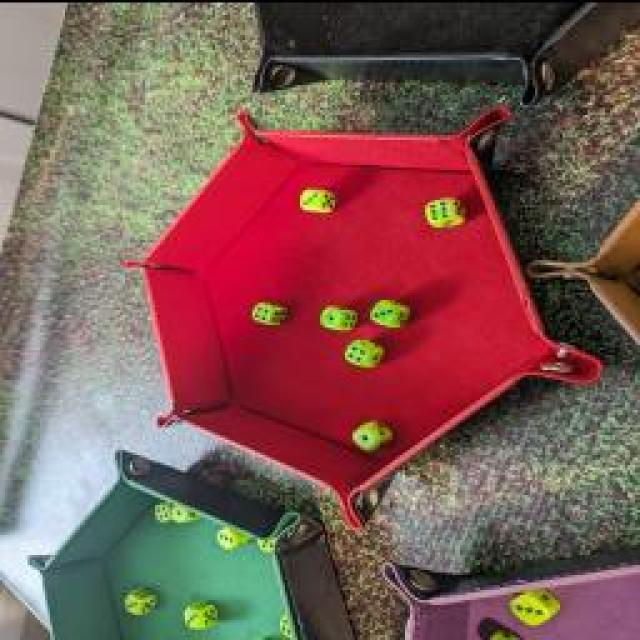dice_1: (348, 416, 392, 449), (315, 301, 357, 329), (168, 499, 204, 521)
dice_3: (502, 584, 560, 626), (366, 294, 412, 326), (298, 178, 338, 214), (179, 596, 219, 629), (120, 584, 155, 614), (214, 522, 244, 548)
dice_4: (340, 334, 385, 364), (248, 296, 288, 324), (272, 610, 298, 635), (152, 499, 176, 519)
dice_5: (254, 528, 278, 552)
dice_6: (420, 191, 470, 229)
